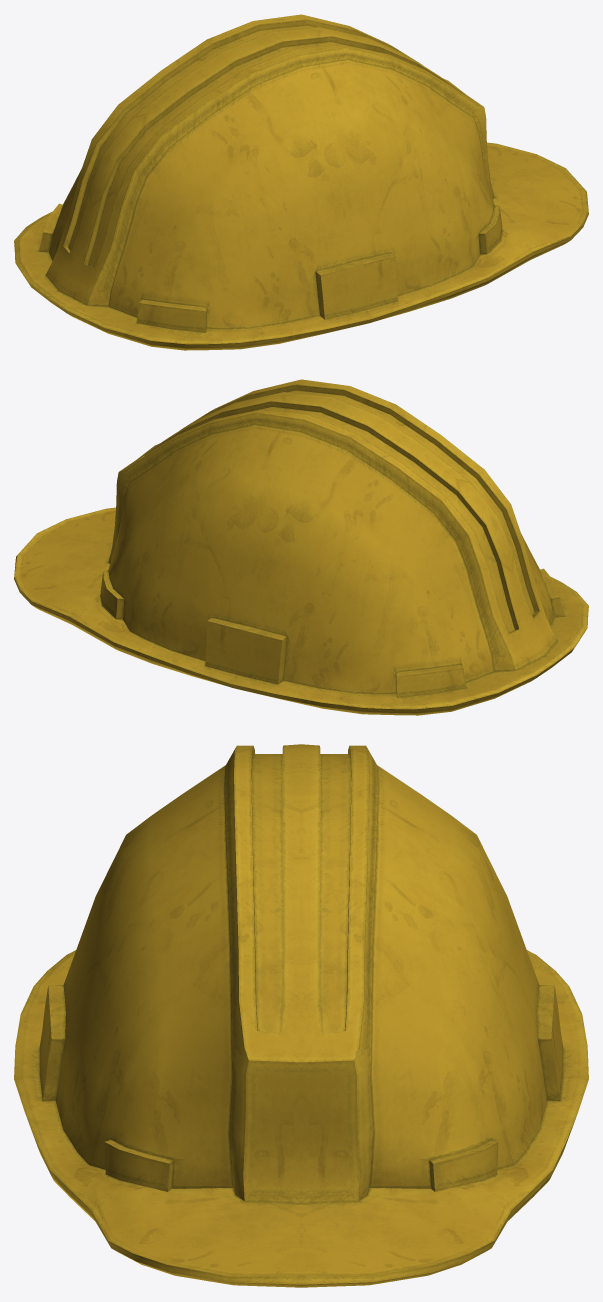
File: construction_helmet.glb
The picture shows the model from 3 angles, top to bottom: view 1: azimuth 30°, elevation 25°; view 2: azimuth 150°, elevation 25°; view 3: azimuth 270°, elevation 25°; orthographic projection. The views are drawn at different scales.
Visible parts, largest first — view 1: Casque_low; view 2: Casque_low; view 3: Casque_low.
Boxes of the visible parts, x1,y1,x2,y2 form: Casque_low: (14,14,588,350); Casque_low: (14,379,588,715); Casque_low: (14,744,588,1287).
Size of the model in its own units: 0.6418 by 0.2573 by 0.4166.
1 material, 1 textured.
